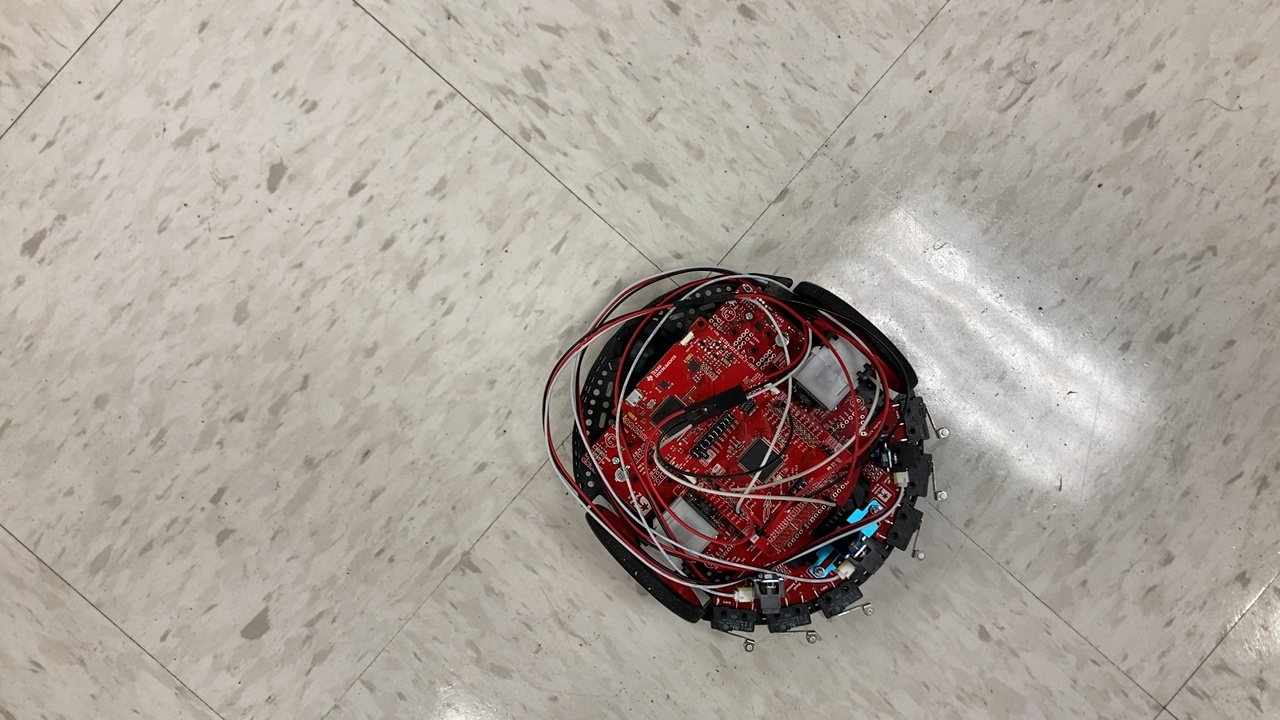robot: (539, 258, 956, 656)
